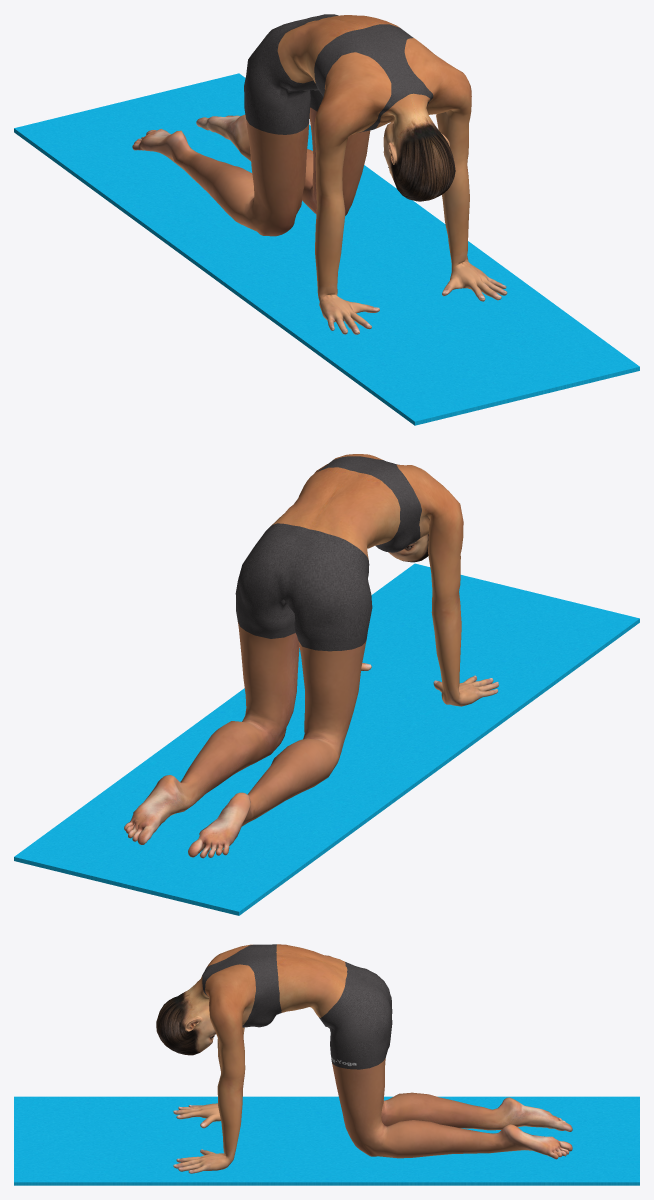
File: marjaryasana.glb
The picture shows the model from 3 angles, top to bottom: view 1: azimuth 30°, elevation 25°; view 2: azimuth 150°, elevation 25°; view 3: azimuth 270°, elevation 25°; orthographic projection. The views are drawn at different scales.
Parts seen in each view (by area): view 1: mat_001-material, FemaleSkin-material; view 2: mat_001-material, FemaleSkin-material; view 3: mat_001-material, FemaleSkin-material.
Boxes of the visible parts, x1,y1,x2,y2 form: mat_001-material: (14,73,639,425); FemaleSkin-material: (132,14,507,334); mat_001-material: (14,563,639,915); FemaleSkin-material: (124,454,498,858); mat_001-material: (14,1096,639,1185); FemaleSkin-material: (156,944,572,1173).
Size of the model in its own units: 2 by 2.09 by 6.17.
Materials: 2 (2 with a texture image).
